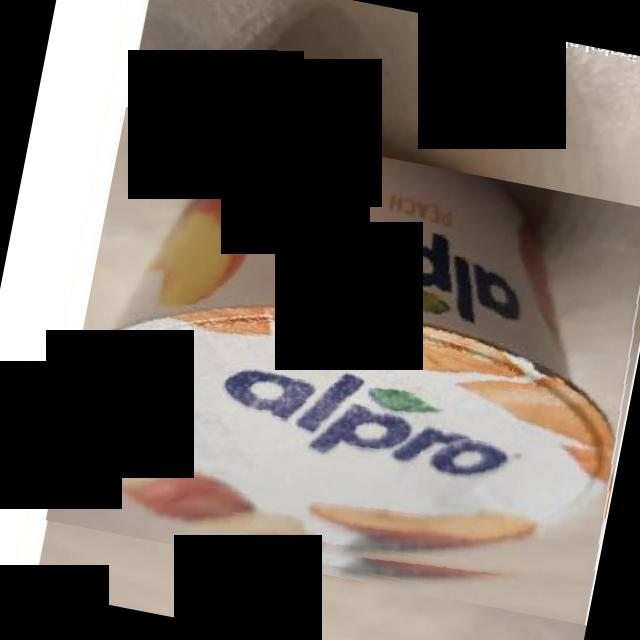yogurt: (46, 107, 640, 626)
